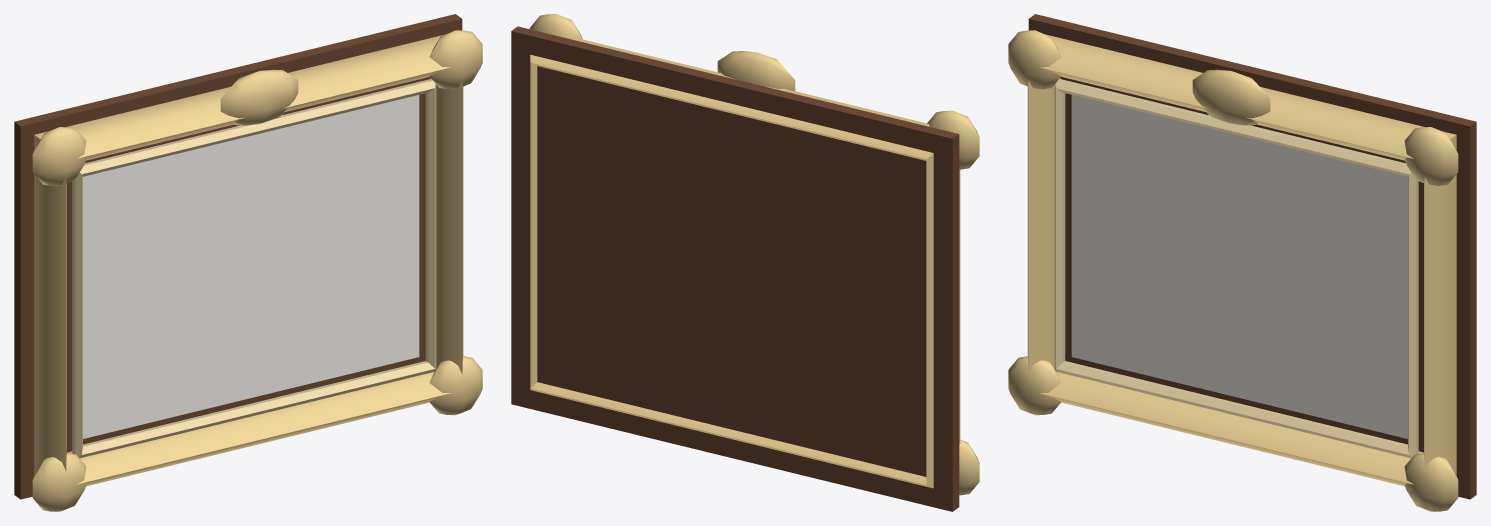
File: photo-frame-gold-4x3.glb
The picture shows the model from 3 angles, left to right: view 1: azimuth 30°, elevation 25°; view 2: azimuth 150°, elevation 25°; view 3: azimuth 330°, elevation 25°; orthographic projection.
Visible parts, largest first — view 1: photo_area, photo-frame-gold-4x3; view 2: photo-frame-gold-4x3; view 3: photo_area, photo-frame-gold-4x3.
Boxes of the visible parts, x1,y1,x2,y2 form: photo_area: (83,95,419,438); photo-frame-gold-4x3: (14,14,482,511); photo-frame-gold-4x3: (511,14,979,511); photo_area: (1071,95,1407,438); photo-frame-gold-4x3: (1008,14,1476,511).
Size of the model in its own units: 0.7951 by 0.665 by 0.1064.
